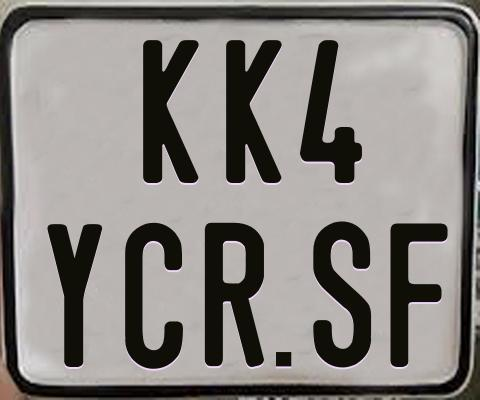4: (297, 37, 364, 184)
C: (125, 223, 185, 375)
F: (387, 223, 450, 371)
K: (226, 39, 288, 182), (142, 40, 200, 185)
R: (203, 221, 265, 367)
S: (310, 220, 371, 369)
Y: (44, 221, 102, 370)
